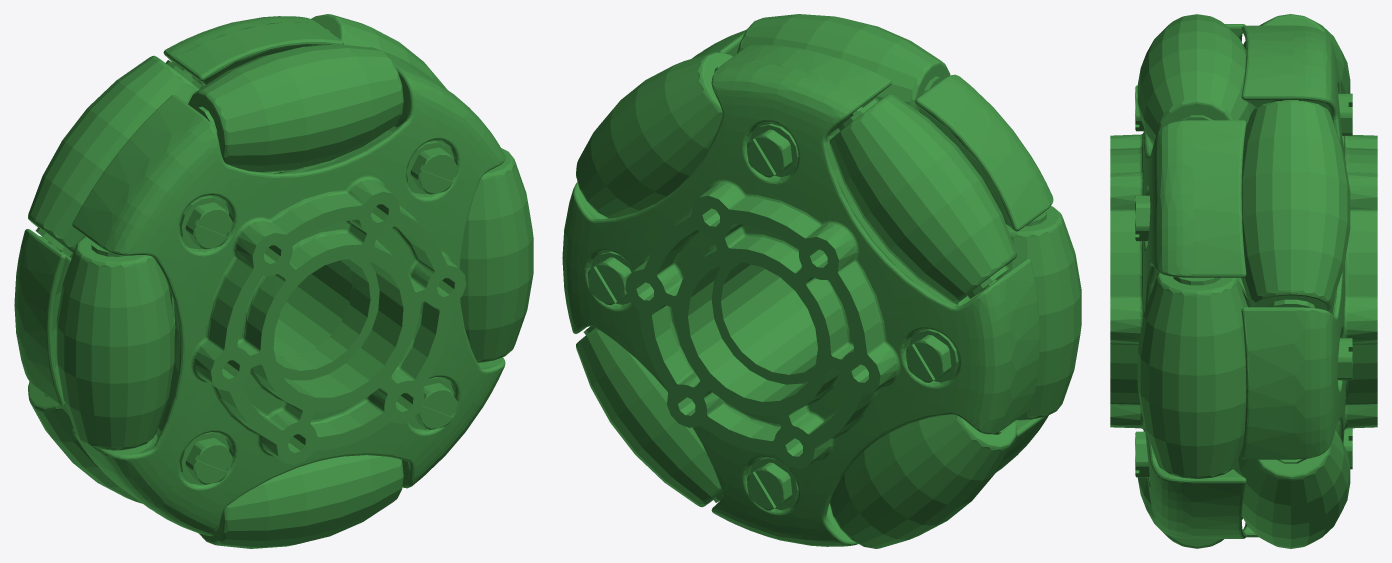
Rendered from am-3047_4inDuraOmniV2_Shrinkwrap_1 v2.fbx.
3 renders of one model, left to right at view 1: azimuth 30°, elevation 25°; view 2: azimuth 150°, elevation 25°; view 3: azimuth 270°, elevation 25°, orthographic.
Parts seen in each view (by area): view 1: MeshBody1; view 2: MeshBody1; view 3: MeshBody1.
Boxes of the visible parts, bbox=[...] form: MeshBody1: bbox=[14, 14, 533, 548]; MeshBody1: bbox=[562, 14, 1081, 548]; MeshBody1: bbox=[1110, 14, 1377, 548].
Bounding box in the file's own units: 101 × 101 × 50.8.
